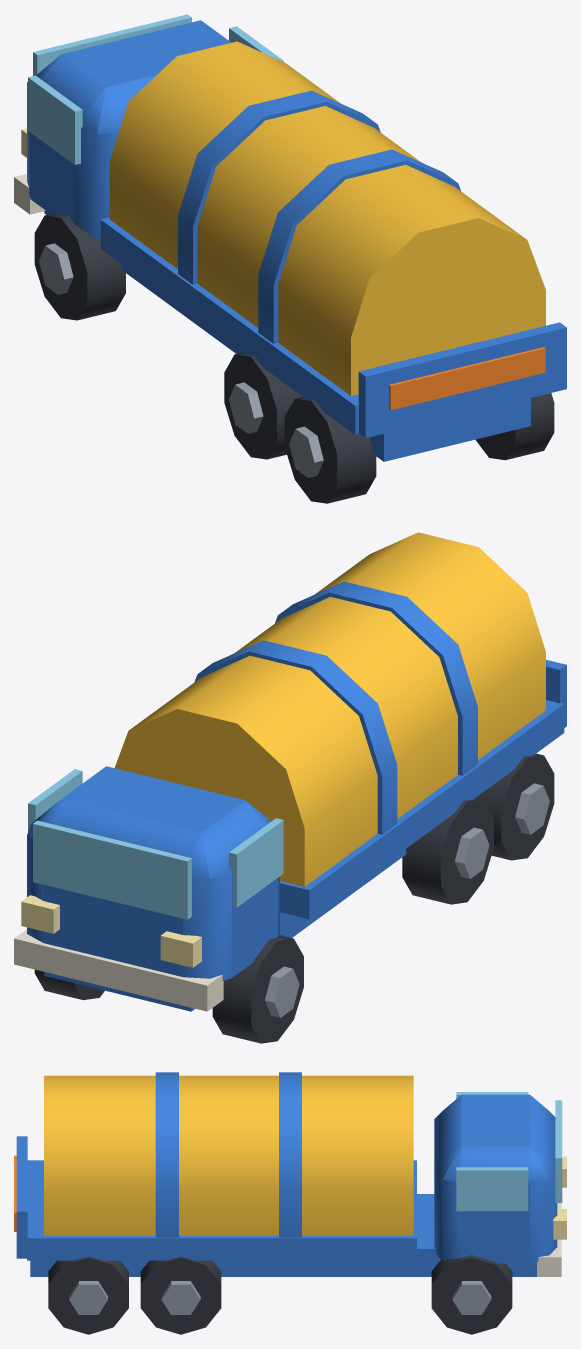
The model's file is unit-transport.glb.
3 views of the same model, one above another, from view 1: azimuth 30°, elevation 25°; view 2: azimuth 150°, elevation 25°; view 3: azimuth 270°, elevation 25° (orthographic). The views are drawn at different scales.
Visible parts, largest first — view 1: cover, wheel (×4), cab, ramp, bed, chassis; view 2: cover, cab, wheel (×4), bed, chassis, ramp; view 3: cover, cab, wheel (×3), bed, chassis, ramp.
Part boxes in pixels (x1,y1,x2,y2): cover: (109,41,545,395); wheel (×4): (34,213,554,503); cab: (14,14,283,238); ramp: (358,322,566,437); bed: (100,217,359,434); chassis: (44,211,530,461); cover: (114,532,545,886); cab: (14,766,283,1011); wheel (×4): (34,753,554,1043); bed: (280,700,564,919); chassis: (44,849,406,1011); ramp: (546,660,566,727); cover: (44,1072,413,1237); cab: (434,1092,566,1276); wheel (×3): (48,1255,512,1334); bed: (27,1160,416,1260); chassis: (30,1194,536,1276); ramp: (14,1136,27,1258).
Bounding box in the file's own units: 3.04 × 3.39 × 8.08.
